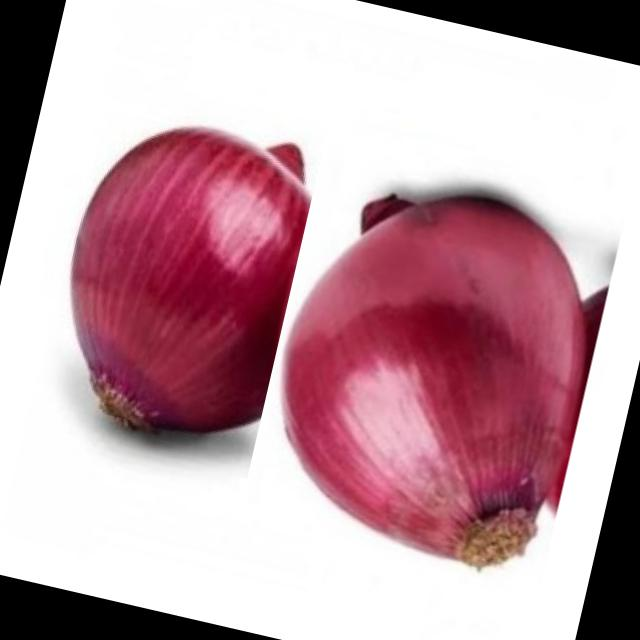Onion: (229, 117, 632, 592), (22, 69, 329, 479)
